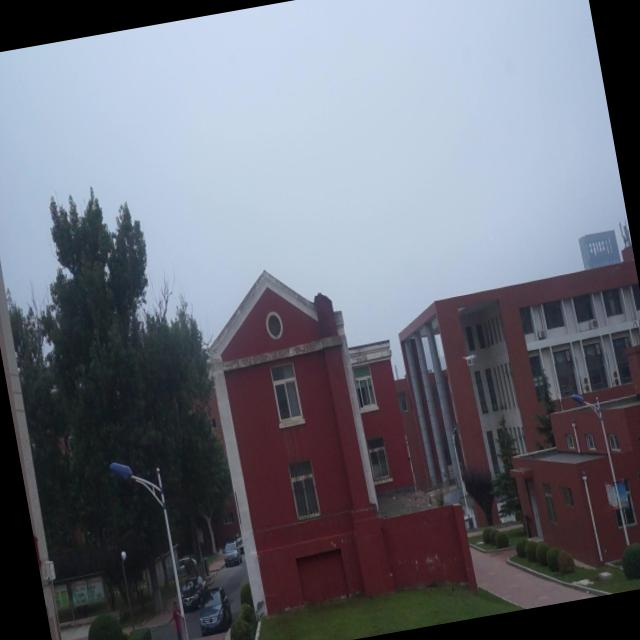drone: (459, 348, 482, 373)
